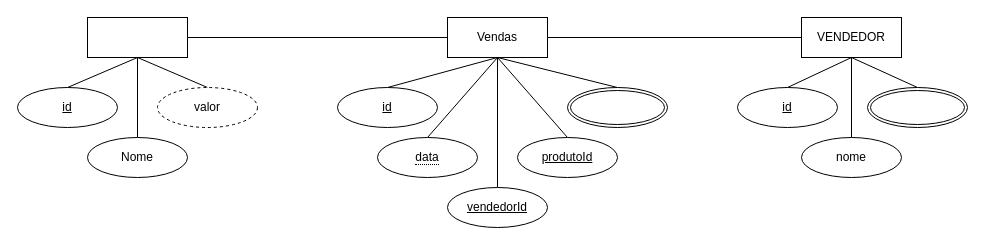
This 985x245 diagram has some shape labels left out. Here are the shapes that lost their labels. From the top down, the centre of each, then its label:
At pixel 137 37: "produtos".
At pixel 617 107: "quantidade".
At pixel 917 107: "matricula".
